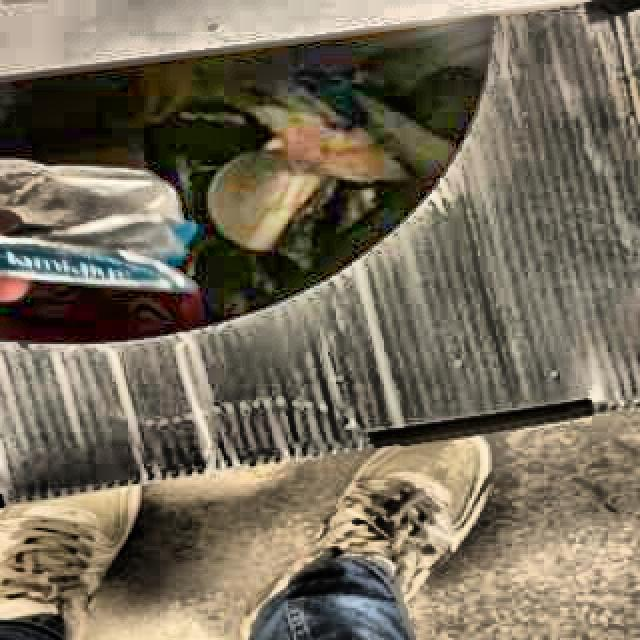plastic: (0, 159, 195, 293)
